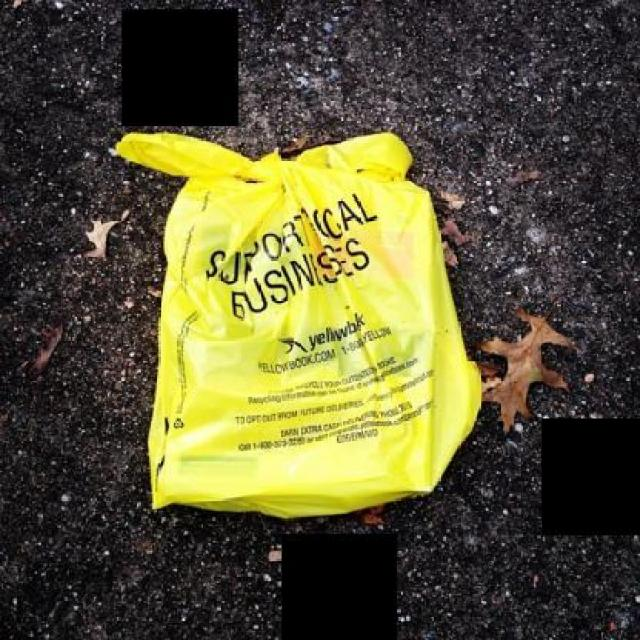plastic bag: (116, 123, 484, 517)
